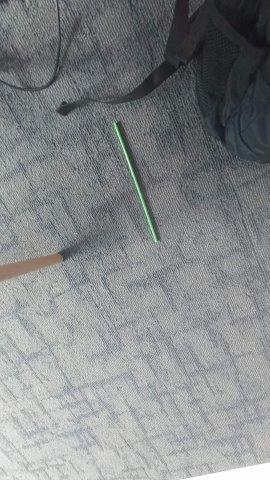sedotan: (114, 124, 158, 242)
